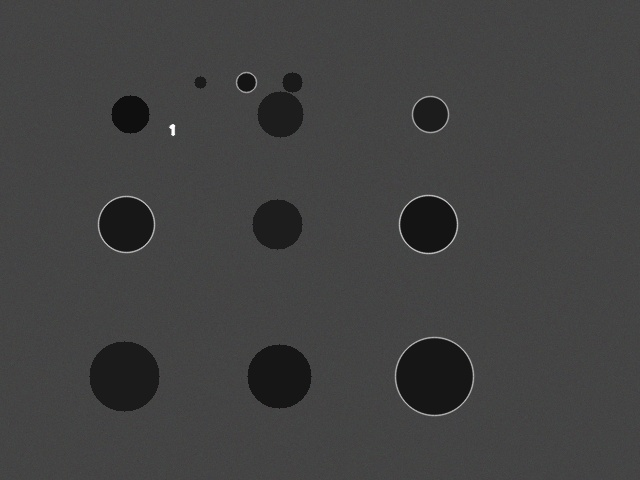hole: (395, 337, 473, 415), (89, 341, 159, 411), (247, 344, 311, 408), (399, 195, 457, 253), (98, 196, 154, 252), (252, 199, 302, 249), (257, 91, 303, 137), (111, 95, 149, 133), (412, 96, 448, 132), (236, 72, 256, 92), (282, 72, 302, 92), (194, 76, 206, 88)
